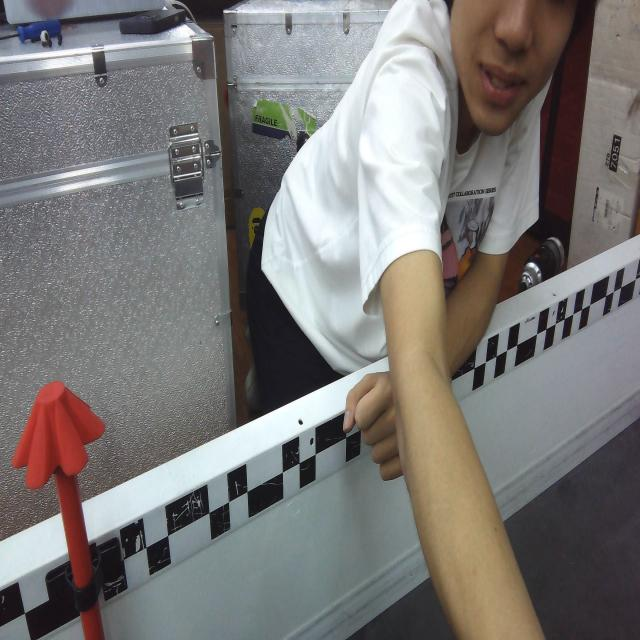zred-Stake-Head: (12, 382, 106, 489)
